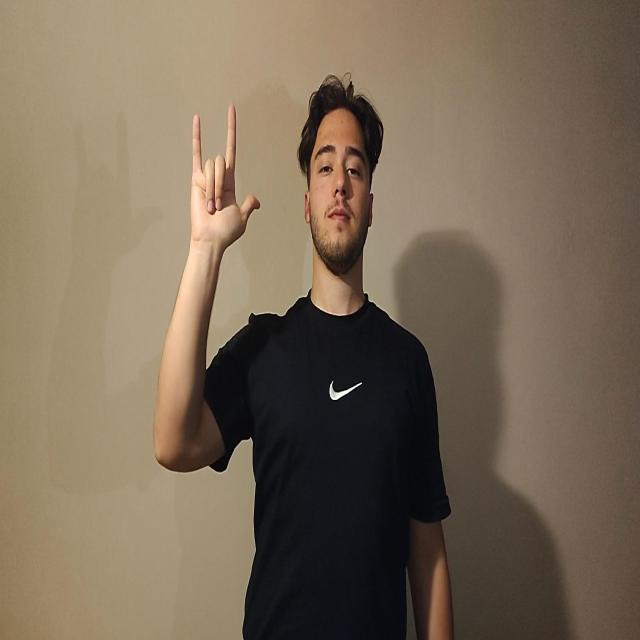iloveyou: (189, 103, 260, 254)
